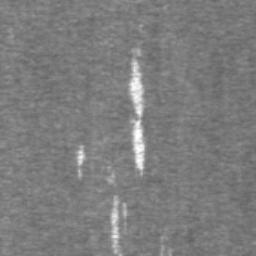White rust: (128, 59, 145, 176), (111, 195, 127, 254), (77, 146, 86, 166)
